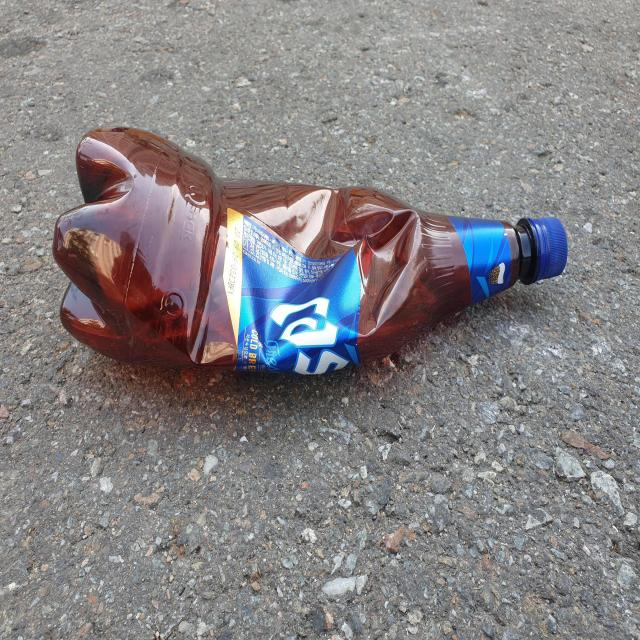plastic: (52, 127, 568, 375)
